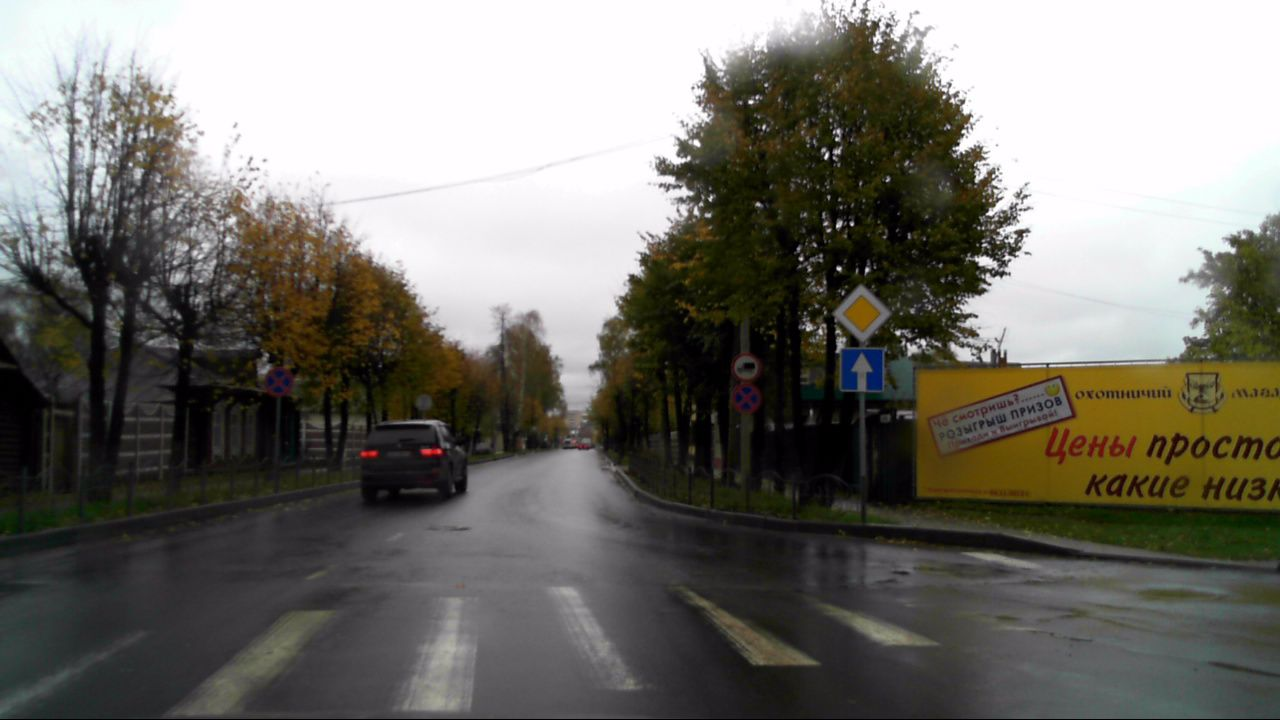No Parking: (264, 367, 292, 396)
